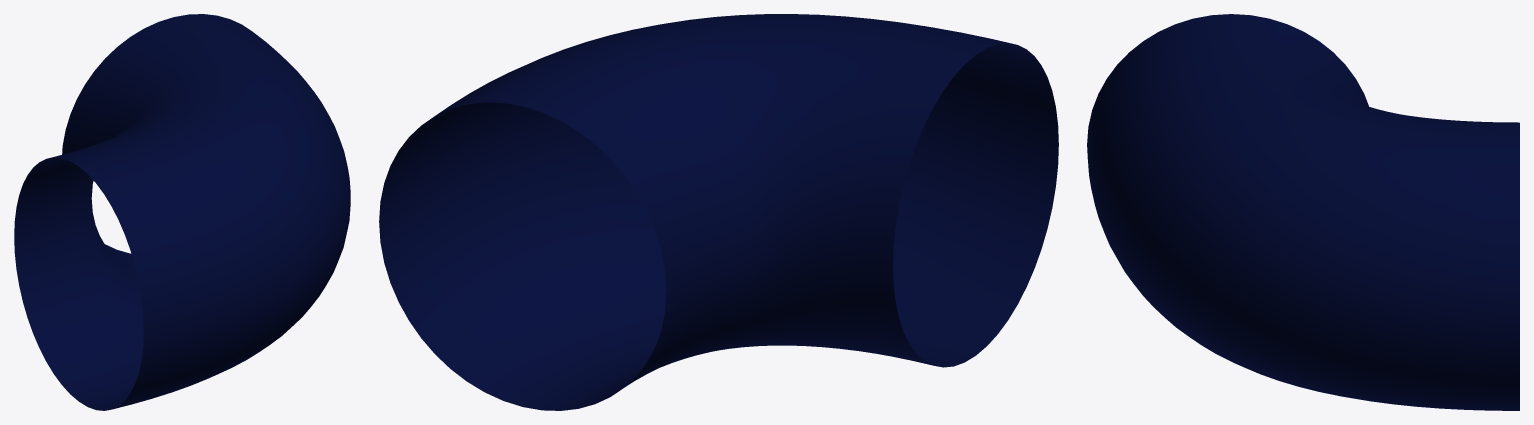
The model's file is pipeCurvedWtexture.fbx.
3 renders of one model, left to right at view 1: azimuth 30°, elevation 25°; view 2: azimuth 150°, elevation 25°; view 3: azimuth 270°, elevation 25°, orthographic. The views are drawn at different scales.
Visible parts, largest first — view 1: NurbsPath; view 2: NurbsPath; view 3: NurbsPath.
Part boxes in pixels (x1=…): NurbsPath: x1=14, y1=14, x2=350, y2=410; NurbsPath: x1=379, y1=14, x2=1058, y2=410; NurbsPath: x1=1087, y1=14, x2=1519, y2=410.
Bounding box in the file's own units: 75 × 50 × 75.
